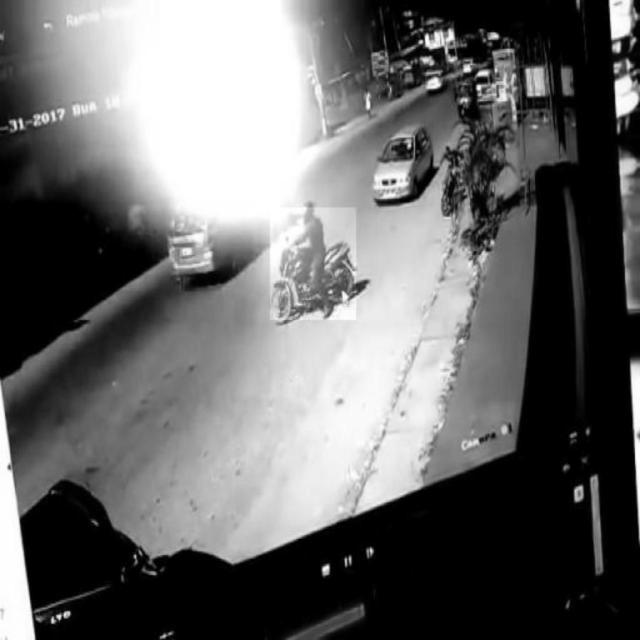vehicle: (270, 208, 356, 321), (375, 122, 433, 208)
